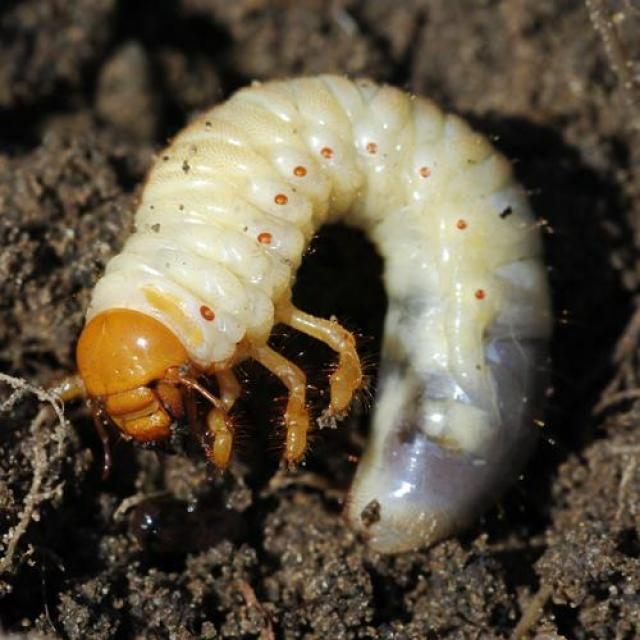Grub-Adult-: (75, 65, 545, 568)
